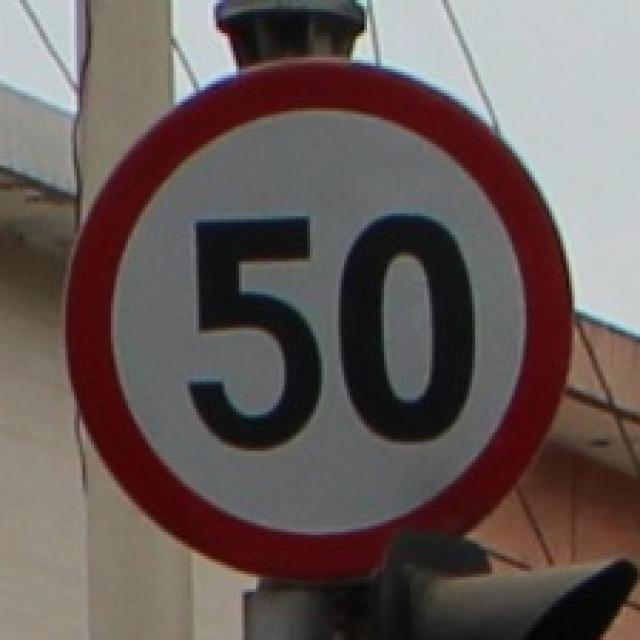Speed Limit -50-: (183, 206, 481, 459)
